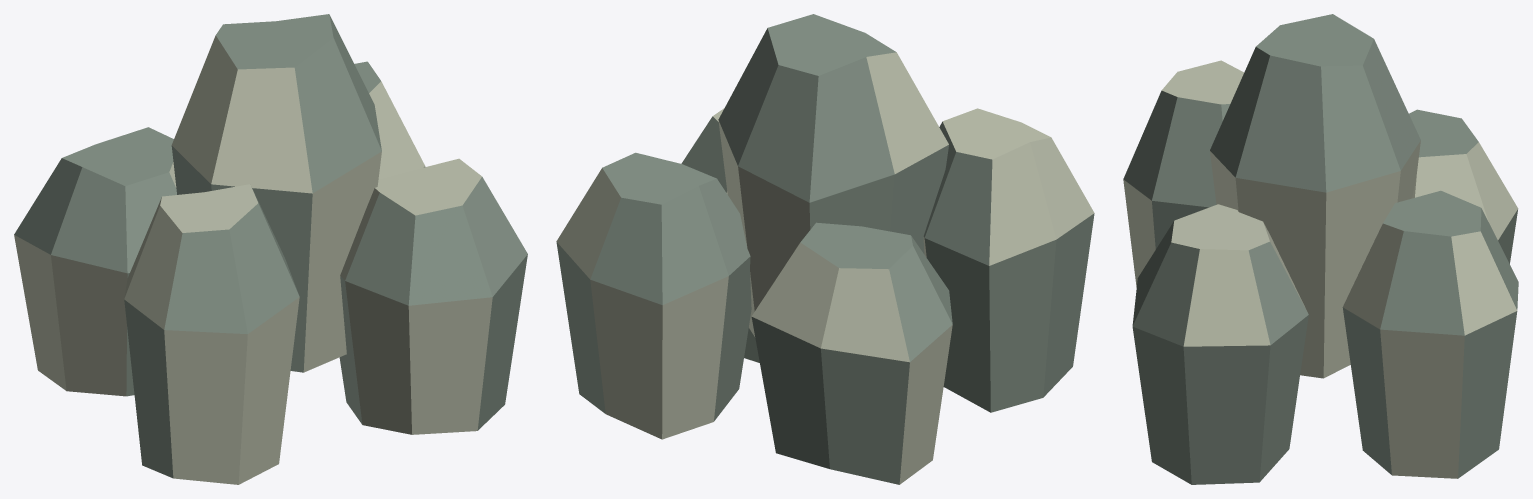
3 views of the same model, side by side, from view 1: azimuth 30°, elevation 25°; view 2: azimuth 150°, elevation 25°; view 3: azimuth 270°, elevation 25° (orthographic). The views are drawn at different scales.
Visible parts, largest first — view 1: Silicate_Deposit; view 2: Silicate_Deposit; view 3: Silicate_Deposit.
Boxes of the visible parts, bbox=[...] form: Silicate_Deposit: bbox=[14, 14, 527, 484]; Silicate_Deposit: bbox=[556, 14, 1094, 484]; Silicate_Deposit: bbox=[1123, 14, 1518, 484].
Bounding box in the file's own units: 0.8676 × 0.7789 × 0.7599.
